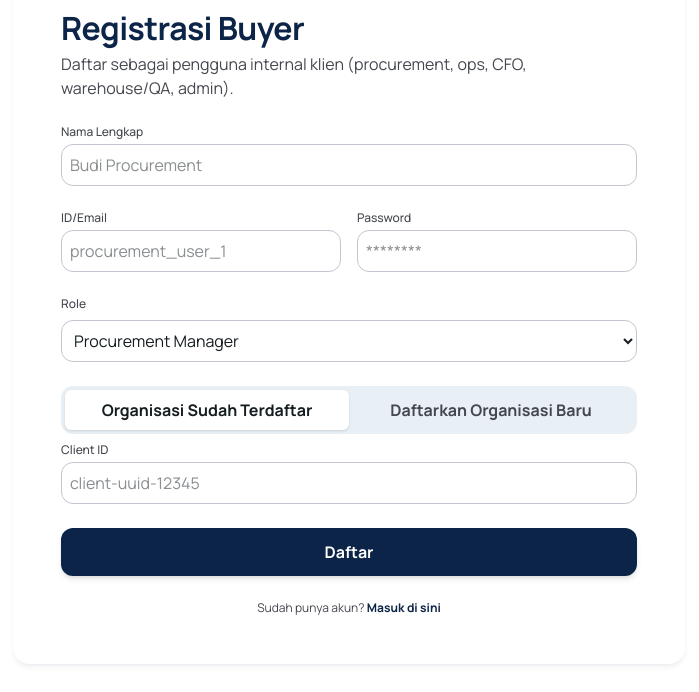
Test case: BuyerRegisterPage › blocks submission and shows errors when required fields are empty
This screenshot has width=699, height=692.
Click the button "Daftar".
click(349, 552)  # box top-left (61, 528), bottom-right (637, 576)
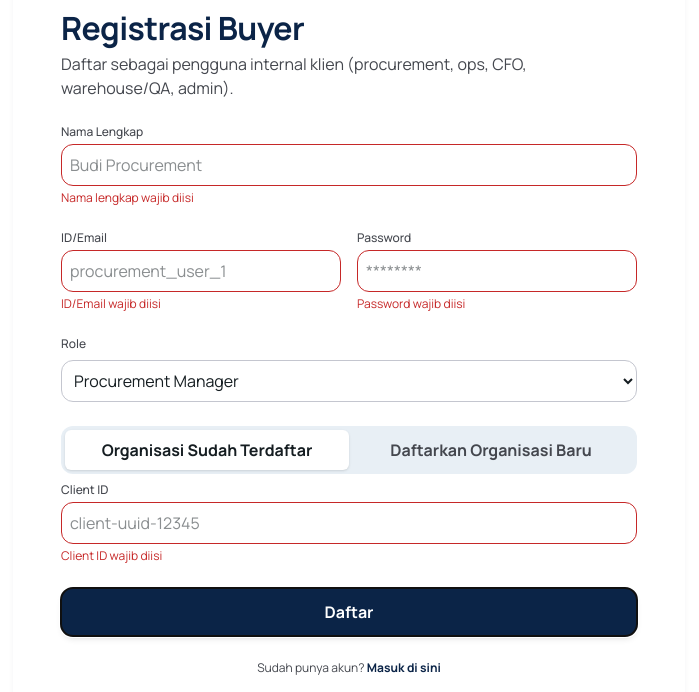
expect the text "Nama lengkap wajib diisi" is shown: met, box top-left (61, 189), bottom-right (194, 206)
expect the text "Client ID wajib diisi" is shown: met, box top-left (61, 547), bottom-right (162, 564)
